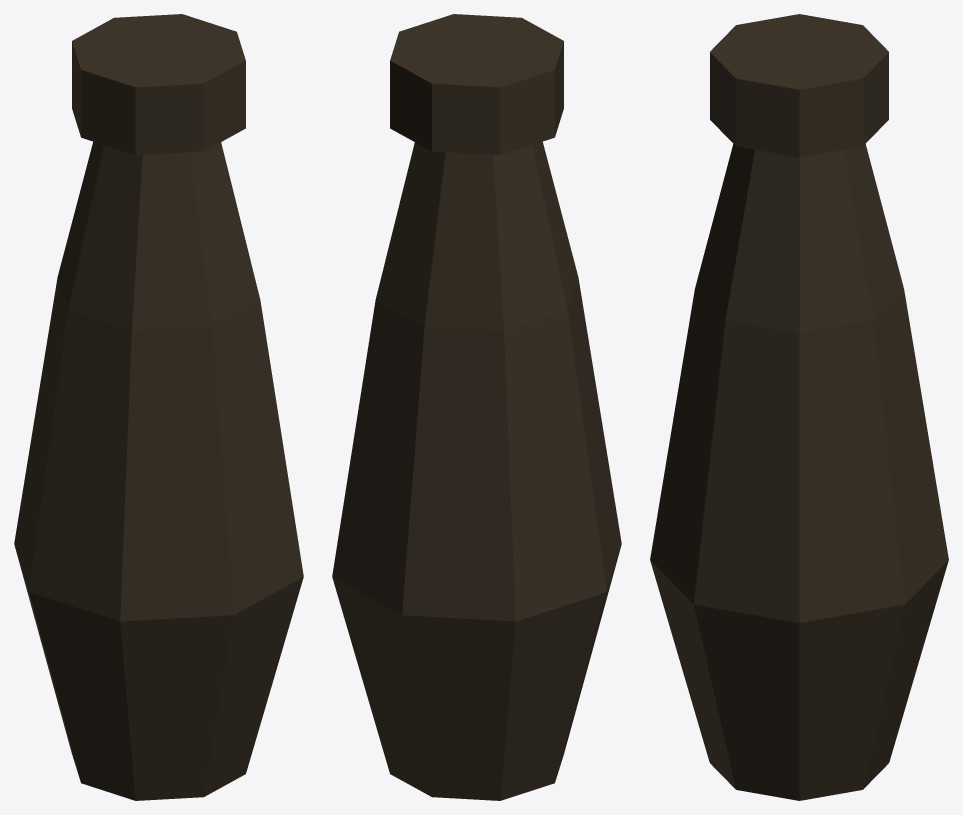
Rendered from vase_tall_01.glb.
3 views of the same model, side by side, from view 1: azimuth 30°, elevation 25°; view 2: azimuth 150°, elevation 25°; view 3: azimuth 270°, elevation 25° (orthographic).
Parts seen in each view (by area): view 1: vase_tall_01; view 2: vase_tall_01; view 3: vase_tall_01.
Boxes of the visible parts, x1,y1,x2,y2 form: vase_tall_01: [14, 14, 303, 800]; vase_tall_01: [332, 14, 621, 800]; vase_tall_01: [650, 14, 948, 800].
Bounding box in the file's own units: 0.3999 × 1.05 × 0.3999.
1 material, 1 textured.
